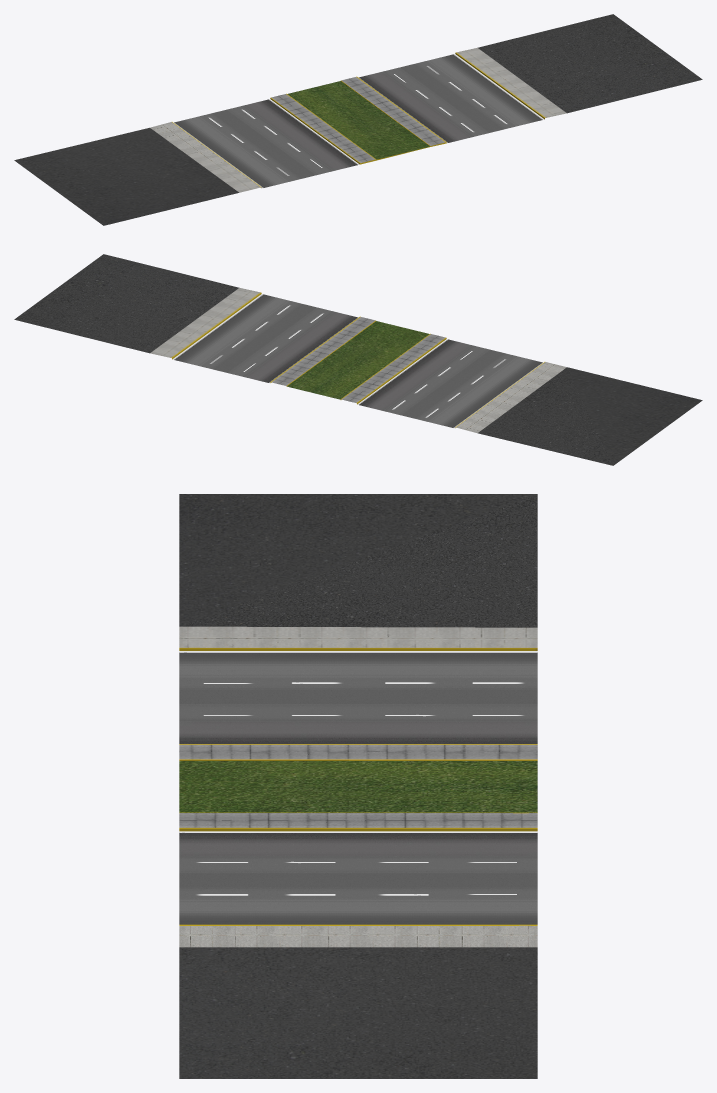
File: Pista3carriles.FBX
3 views of the same model, one above another, from view 1: azimuth 30°, elevation 25°; view 2: azimuth 150°, elevation 25°; view 3: azimuth 270°, elevation 25° (orthographic). The views are drawn at different scales.
Visible parts, largest first — view 1: Plane018; view 2: Plane018; view 3: Plane018.
Boxes of the visible parts, left/top/right/bottom form: Plane018: left=14, top=14, right=702, bottom=225; Plane018: left=14, top=254, right=702, bottom=465; Plane018: left=179, top=494, right=537, bottom=1078.
Size of the model in its own units: 3416 by 7.09 by 885.
